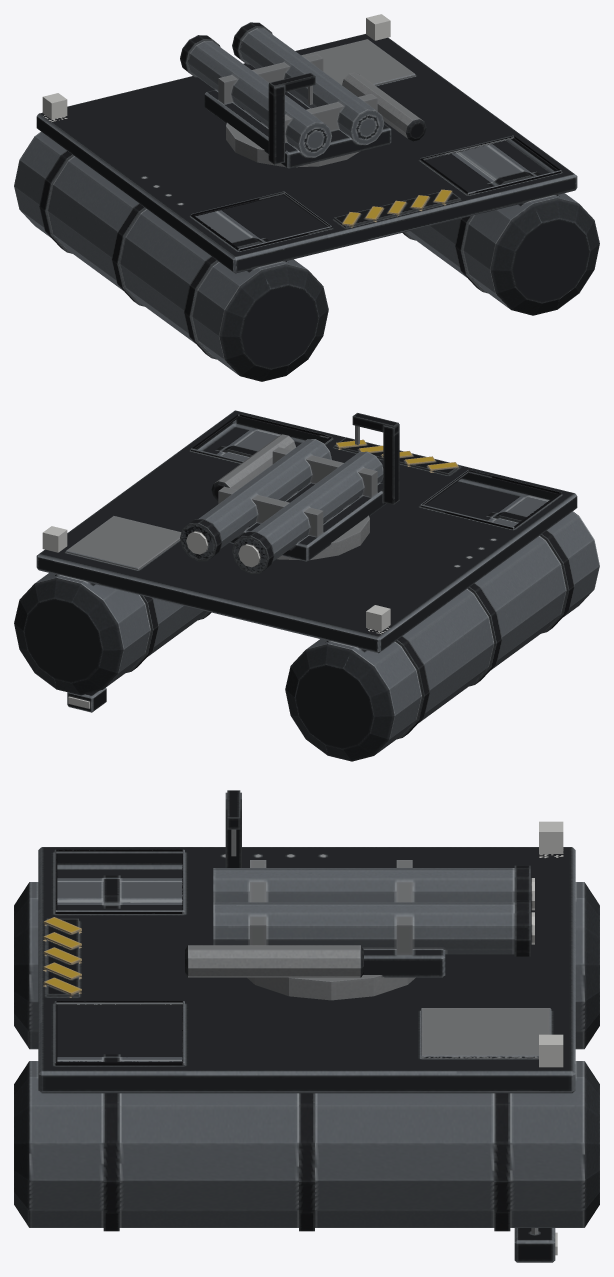
File: chs_fang.fbx
3 views of the same model, one above another, from view 1: azimuth 30°, elevation 25°; view 2: azimuth 150°, elevation 25°; view 3: azimuth 270°, elevation 25° (orthographic). The views are drawn at different scales.
Parts seen in each view (by area): view 1: base_bar, launcher_bar, turret_bar, base_glow_running_bar; view 2: base_bar, launcher_bar, base_glow_running_bar, turret_bar, launcher_glow_weapon_bar, sonar_bar; view 3: base_bar, launcher_bar, turret_bar, base_glow_running_bar, sonar_bar.
Boxes of the visible parts, <box> form: base_bar: <box>14,34,599,381</box>; launcher_bar: <box>180,22,426,168</box>; turret_bar: <box>226,123,359,167</box>; base_glow_running_bar: <box>42,14,390,119</box>; base_bar: <box>14,410,599,761</box>; launcher_bar: <box>180,413,399,574</box>; base_glow_running_bar: <box>42,526,390,631</box>; turret_bar: <box>277,516,369,559</box>; launcher_glow_weapon_bar: <box>186,531,260,567</box>; sonar_bar: <box>67,688,106,712</box>; base_bar: <box>14,847,599,1231</box>; launcher_bar: <box>185,790,530,977</box>; turret_bar: <box>247,975,415,1000</box>; base_glow_running_bar: <box>539,821,563,1067</box>; sonar_bar: <box>514,1228,555,1262</box>.
Bounding box in the file's own units: 738 × 513 × 720.
2 materials, 2 textured.
